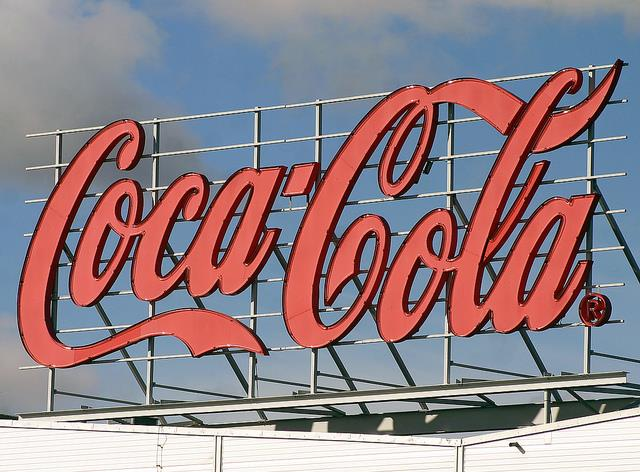coca_cola: (23, 75, 612, 377)
